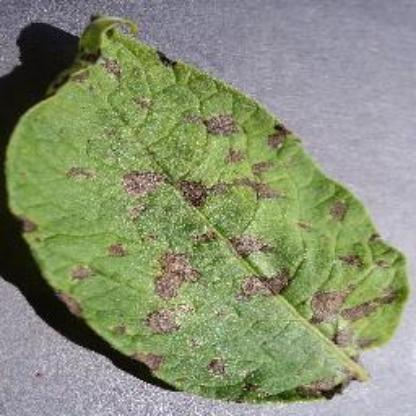Early-Blight: (8, 10, 408, 404)
